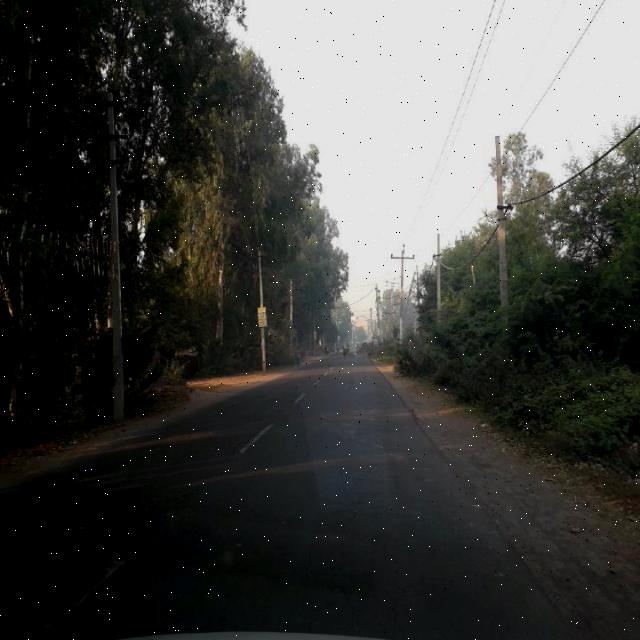D44: (29, 547, 140, 639)
